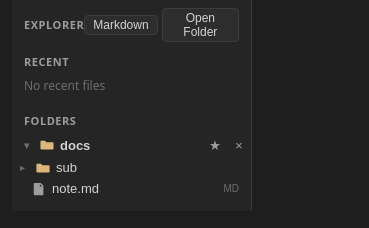
Test: Explorer context menu (plan 03 task 3.6, issue #44) › right-clicking a file row shows Rename / Delete / Copy Path / Reveal
Right-click the button "note.md md" at (132, 188), box 12,178 -> 251,199
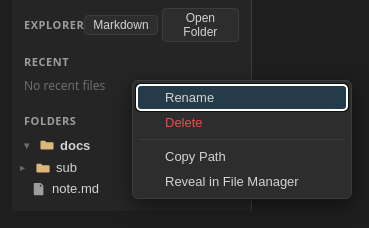
Check: the menu is shown, box 132,80 -> 352,199
Check: the menu item with aria-label "Rename" is shown, box 137,85 -> 347,110
Check: the menu item with aria-label "Delete" is shown, box 137,110 -> 347,135
